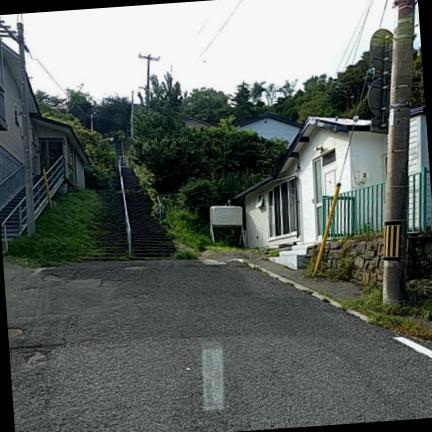Road: (5, 261, 431, 431)
